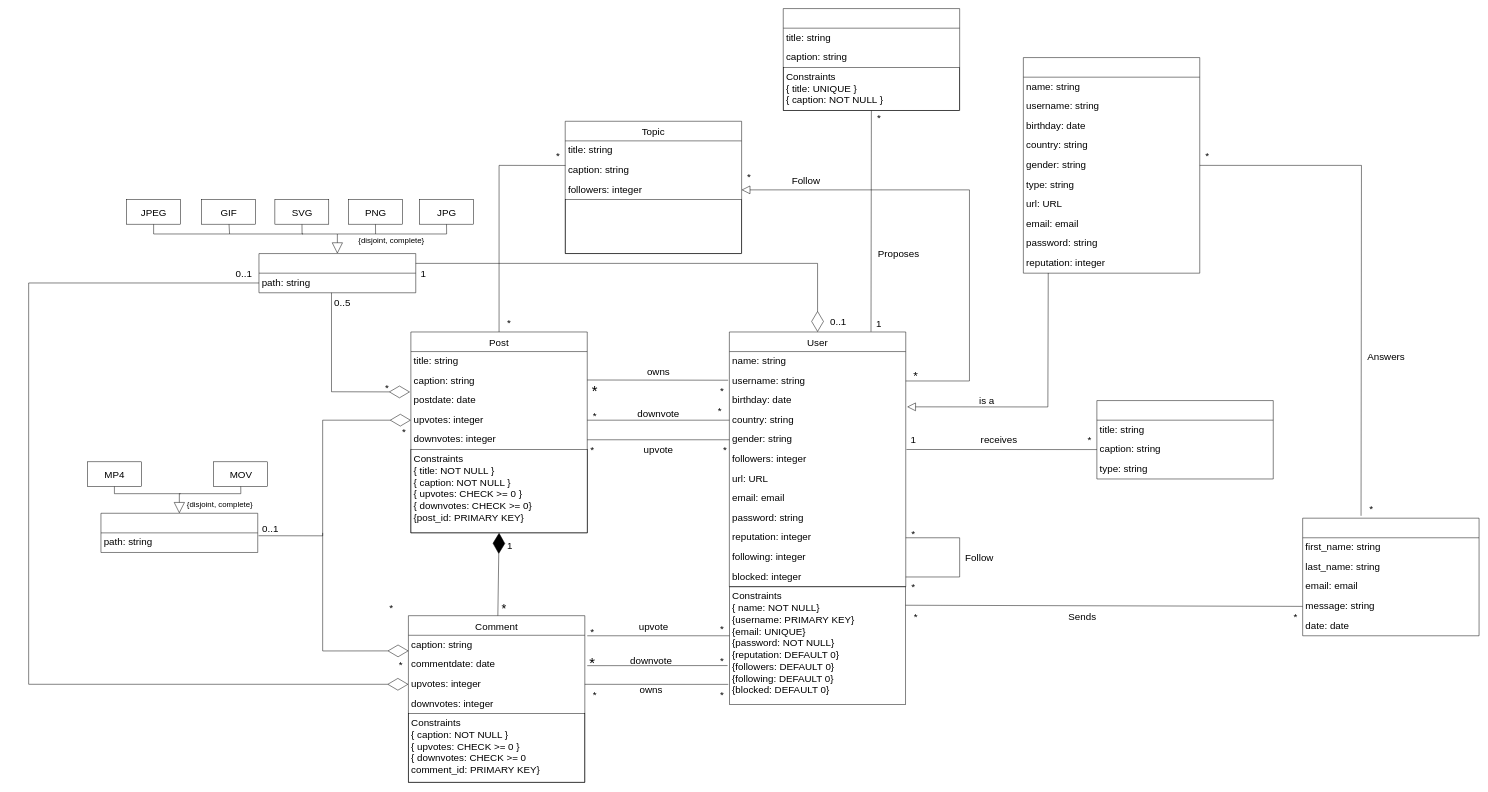
Image size: 1488x792. Some labels were removed from this diagram. Each missing label, with the box of its shape:
Admin: (1023, 57, 1200, 273)
Constraints { title: UNIQUE } { caption: NOT NULL } {followers: DEFAULT 0}: (565, 199, 742, 254)
Contact Us: (1302, 518, 1479, 636)
Image: (258, 253, 416, 293)
Notifications: (1096, 400, 1273, 479)
Topic Proposal: (783, 8, 960, 110)
Video: (100, 513, 258, 552)
